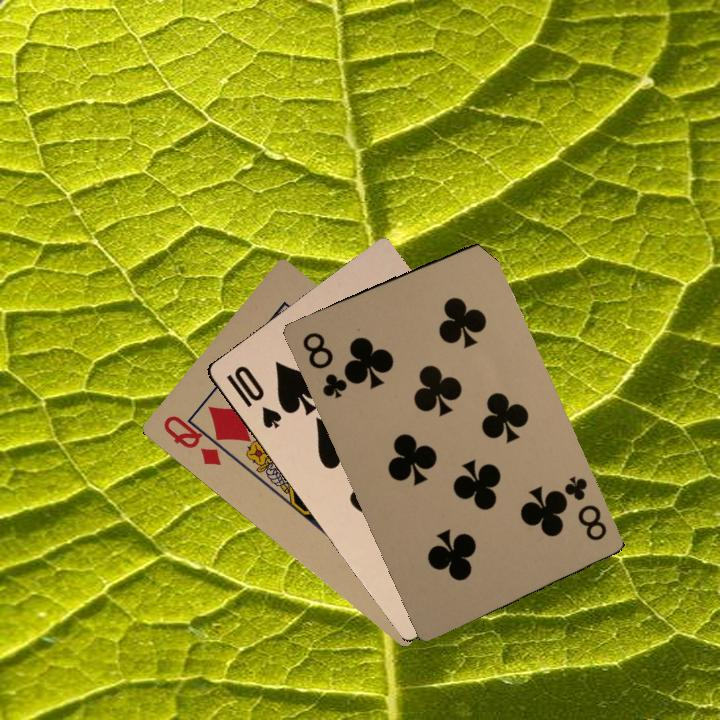10s: (222, 361, 285, 431)
8c: (552, 472, 609, 544), (298, 328, 351, 401)
Qd: (159, 411, 236, 469)
